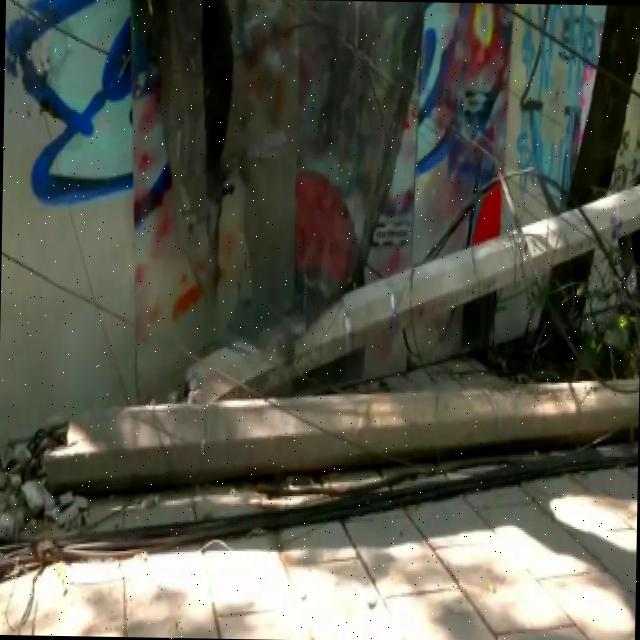Broken Pole: (15, 178, 638, 490)
